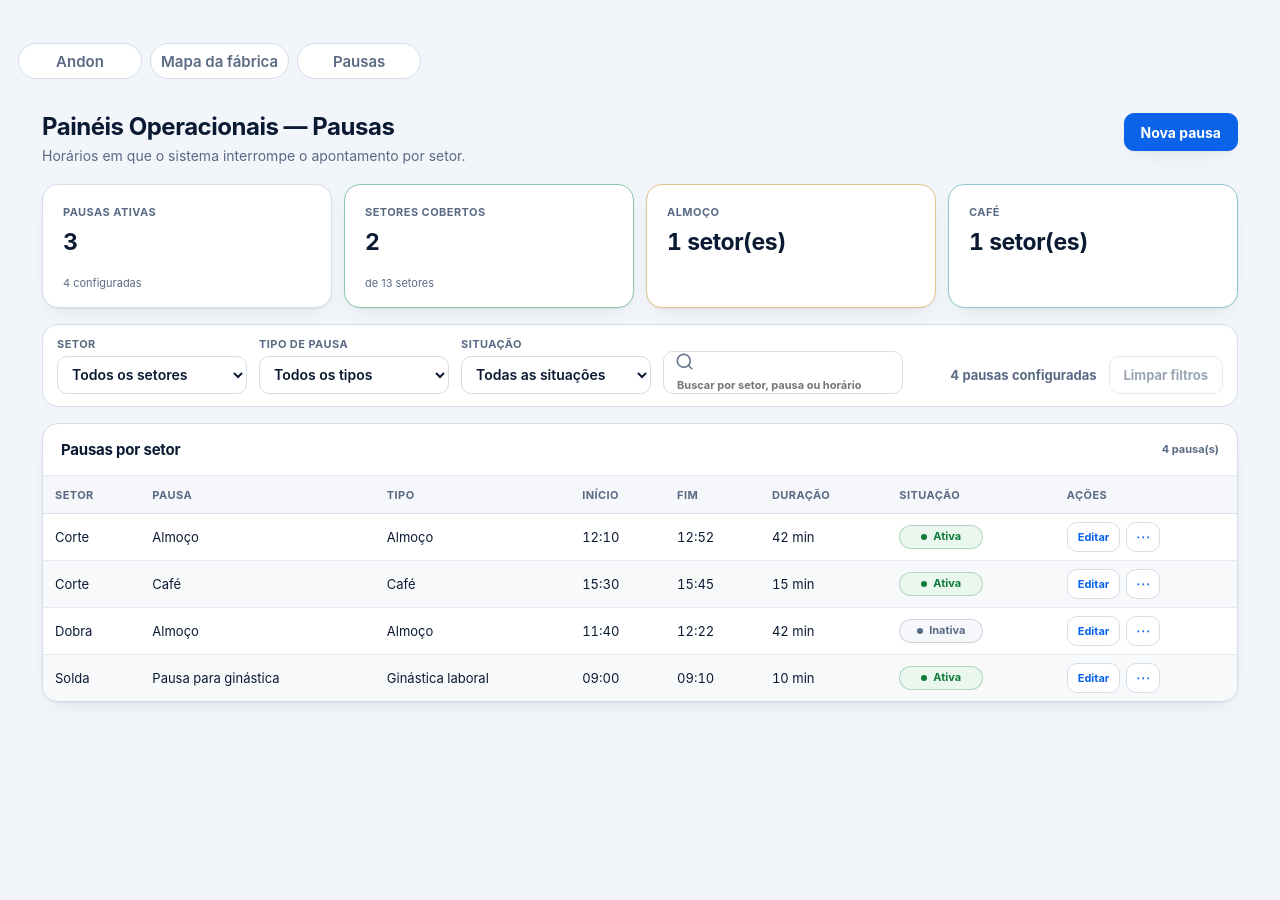
it: Pausas automáticas — organização e filtros › edita uma pausa existente no diálogo e salva pelo contrato atual
Click the button with aria-label "Editar:" at (1093, 537), box [1067,522,1120,552]
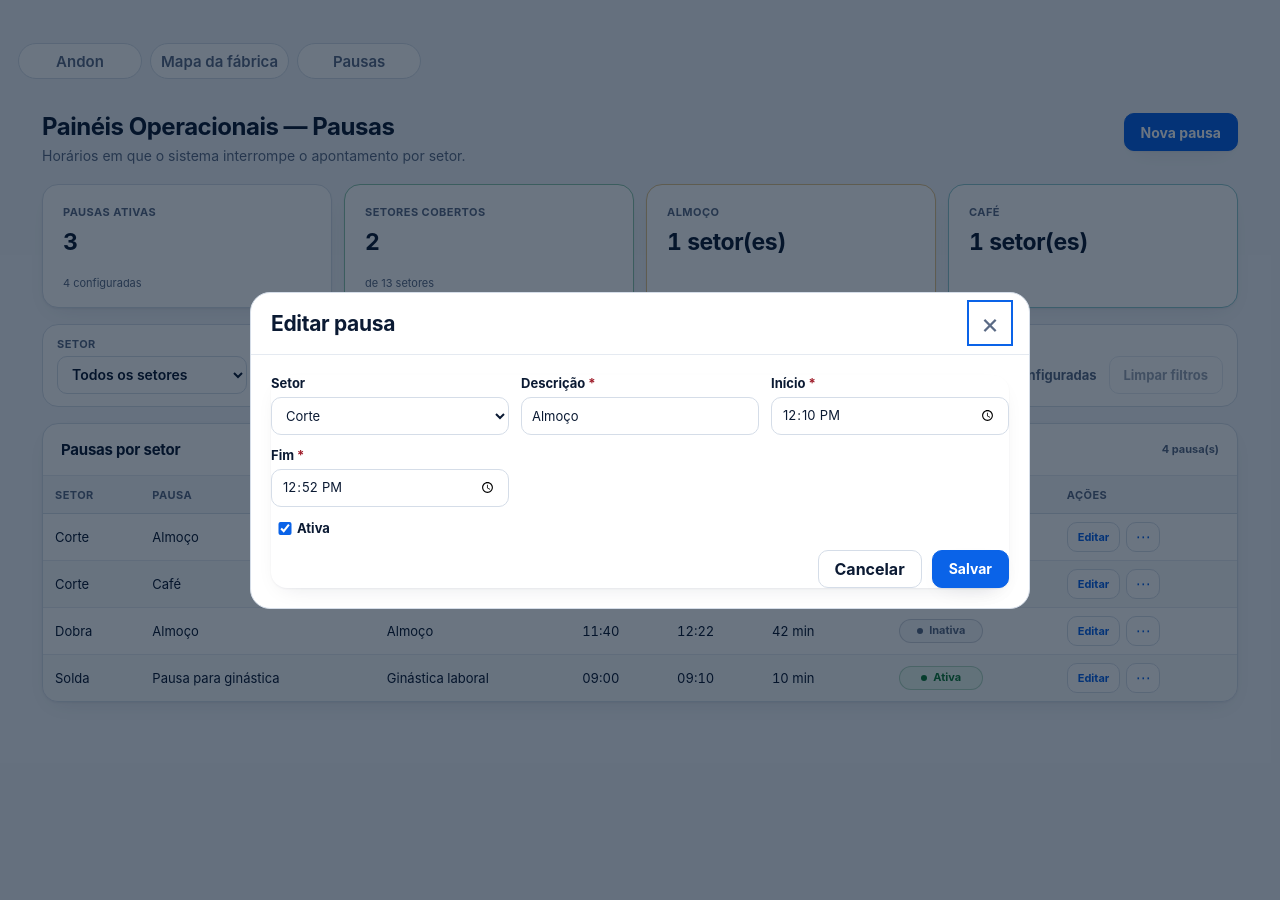
Check: the dialog "Editar pausa" is shown, box [250,292,1030,608]
Replace the text in the time field labelled "Fim *" with "12:55" at (390, 488), box [271,468,509,506]
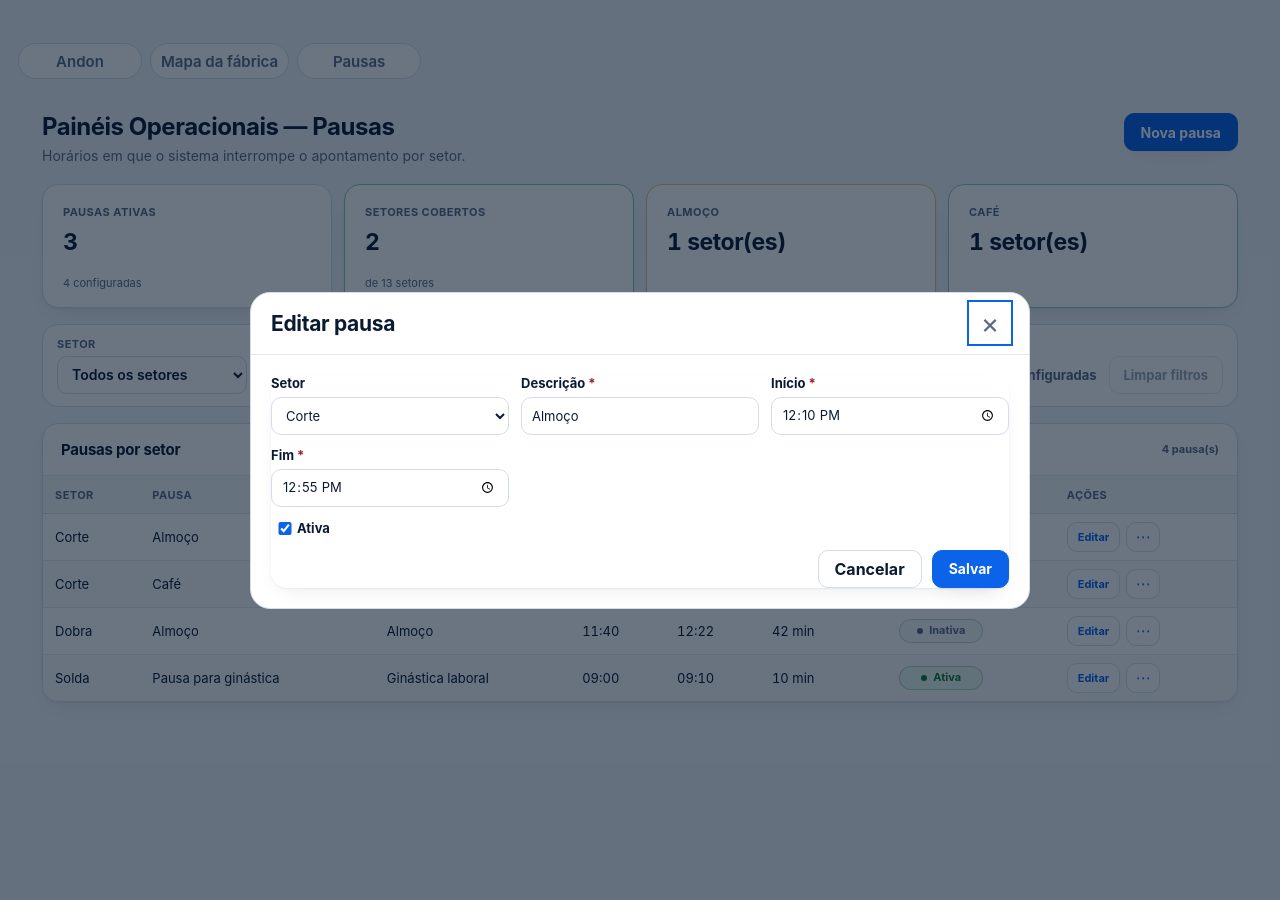
Click the button "Salvar" at (970, 568), box [932,550,1009,588]
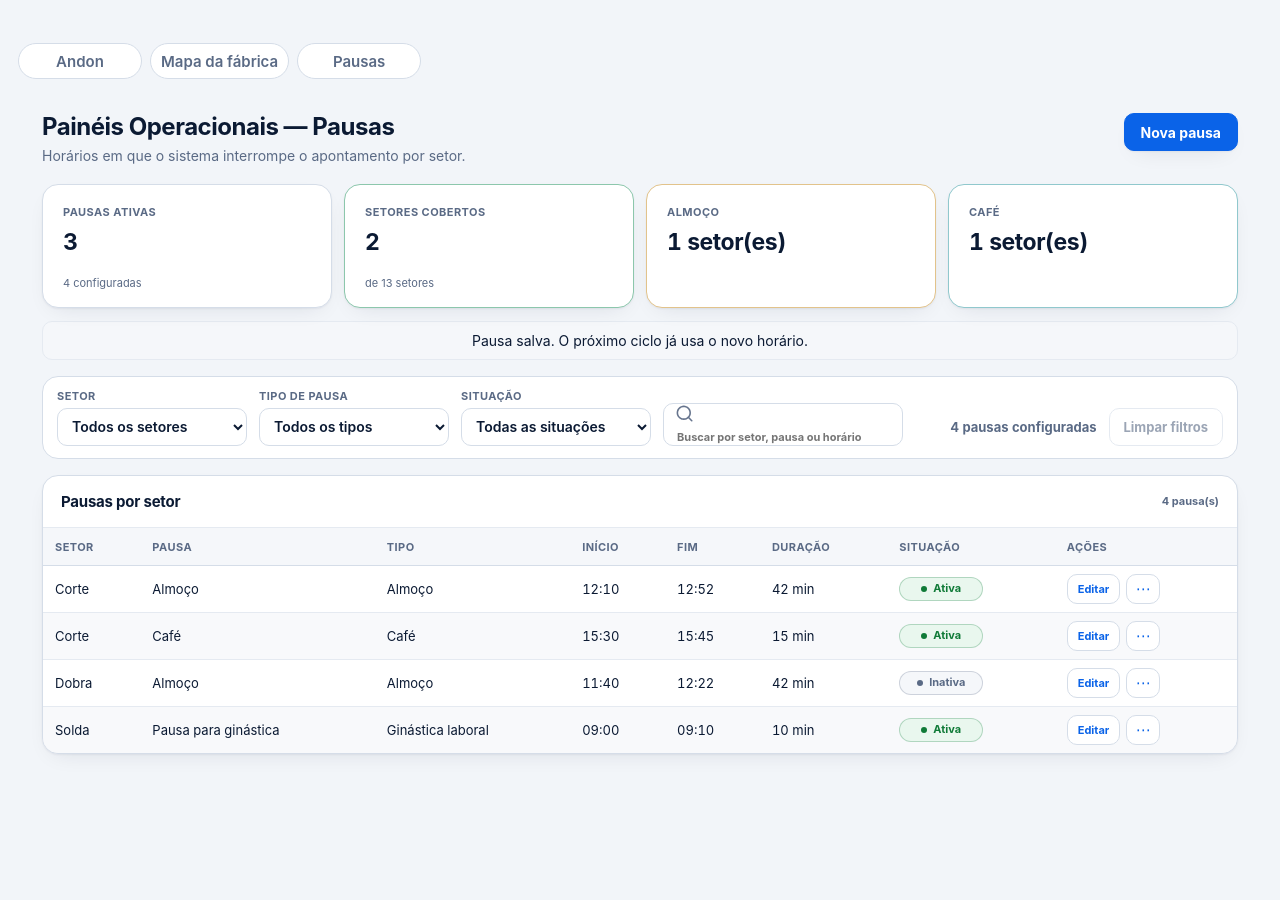
Check: the message shows "Pausa salva", box [472,332,808,349]
